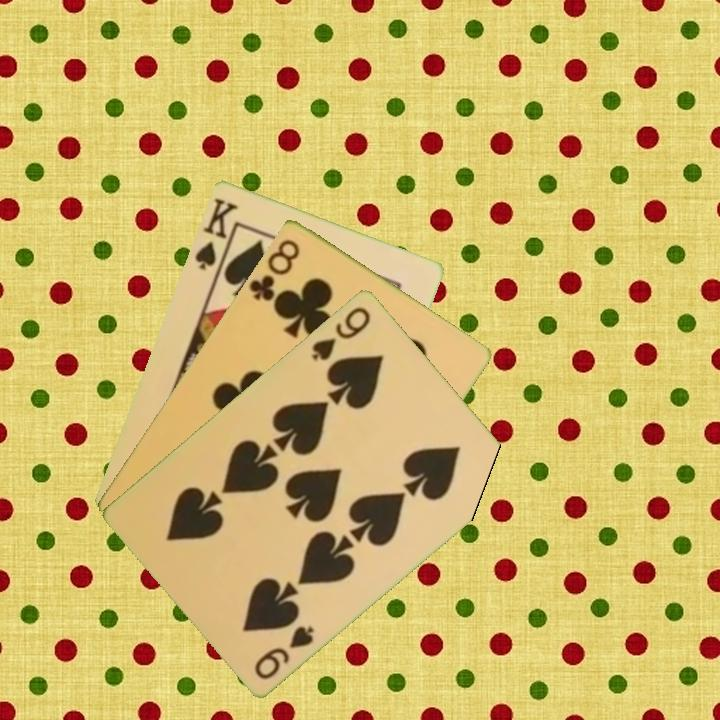8c: (245, 234, 303, 307)
9s: (307, 302, 374, 364), (250, 621, 317, 682)
Ks: (191, 194, 241, 272)
